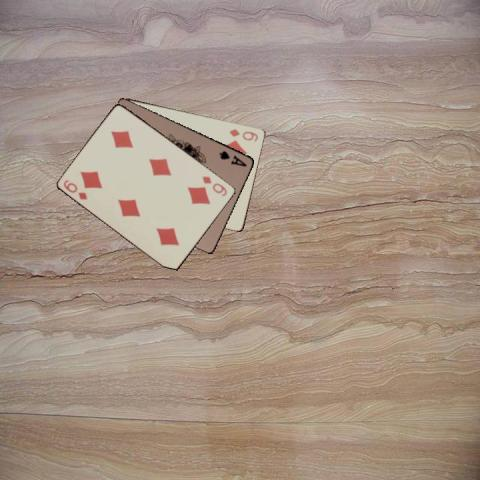6d: (199, 174, 229, 198), (61, 177, 89, 201), (227, 126, 260, 143)
As: (216, 148, 249, 168)
